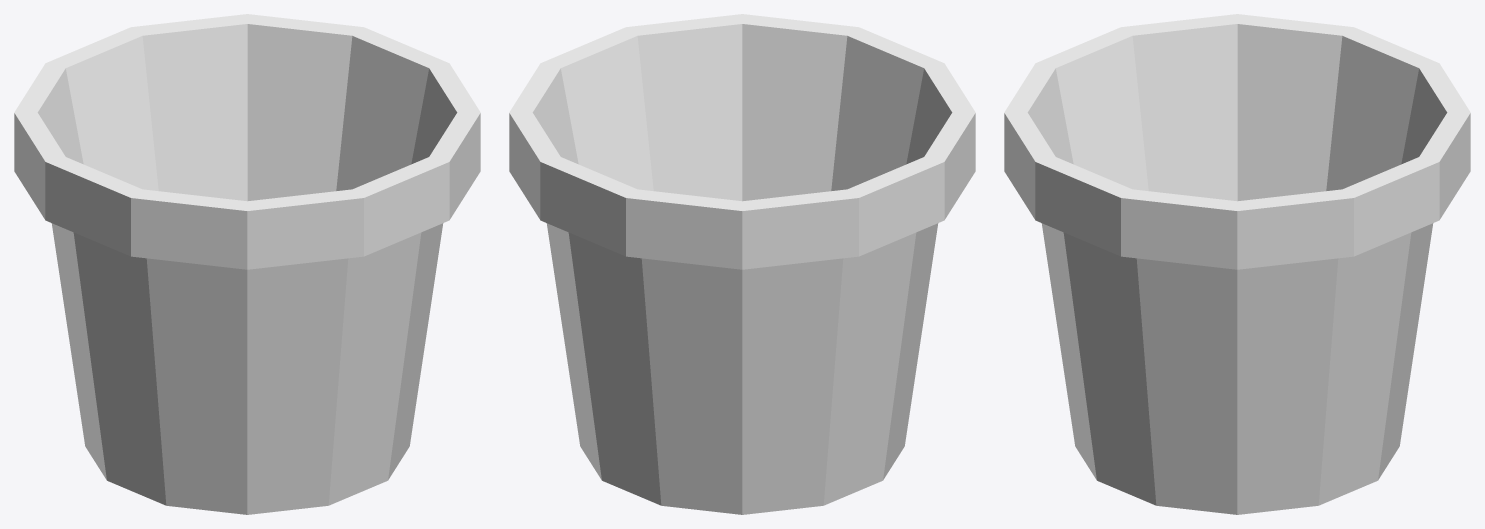
Rendered from Prop_Flowerpot_01.glb.
The picture shows the model from 3 angles, left to right: view 1: azimuth 30°, elevation 25°; view 2: azimuth 150°, elevation 25°; view 3: azimuth 270°, elevation 25°; orthographic projection.
Parts seen in each view (by area): view 1: Prop_Flowerpot_01; view 2: Prop_Flowerpot_01; view 3: Prop_Flowerpot_01.
Part boxes in pixels (x1,y1,x2,y2): Prop_Flowerpot_01: (14,14,480,514); Prop_Flowerpot_01: (509,14,975,514); Prop_Flowerpot_01: (1004,14,1470,514).
Size of the model in its own units: 0.19 by 0.15 by 0.19.
1 material, 1 textured.
